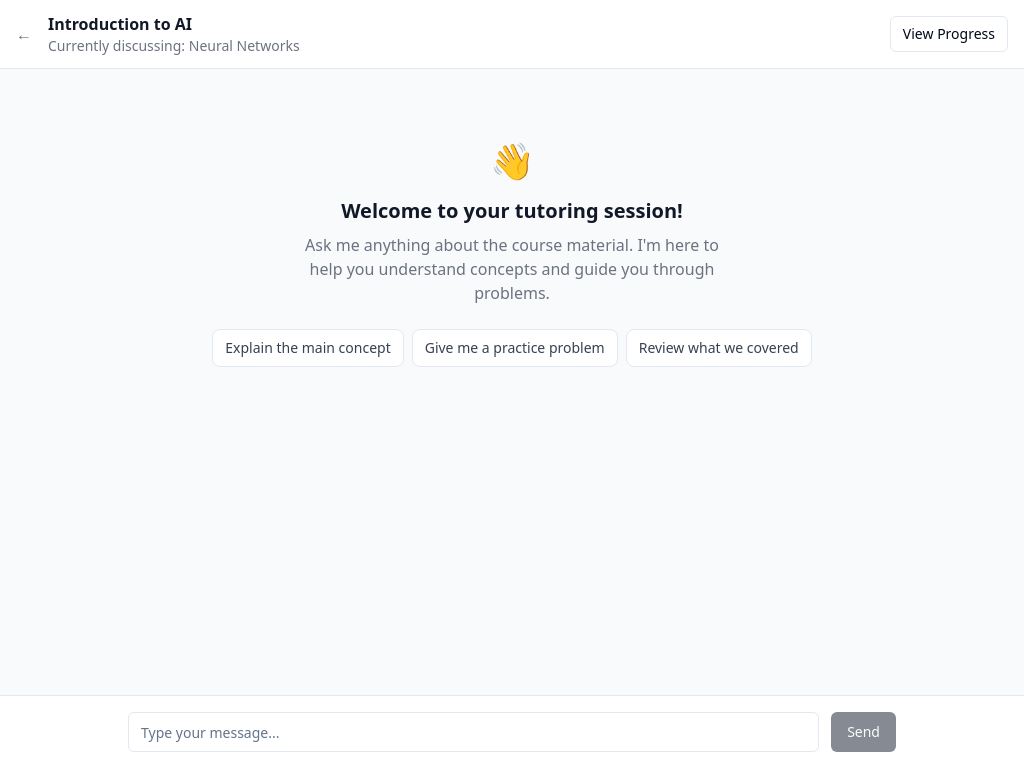
Scenario: TutorSession › message submission › should add user message to chat on submit
Type "Hello AI" into the field with placeholder "Type your message...".
click(474, 732); type("Hello AI")  # box x1=128 y1=712 x2=819 y2=752
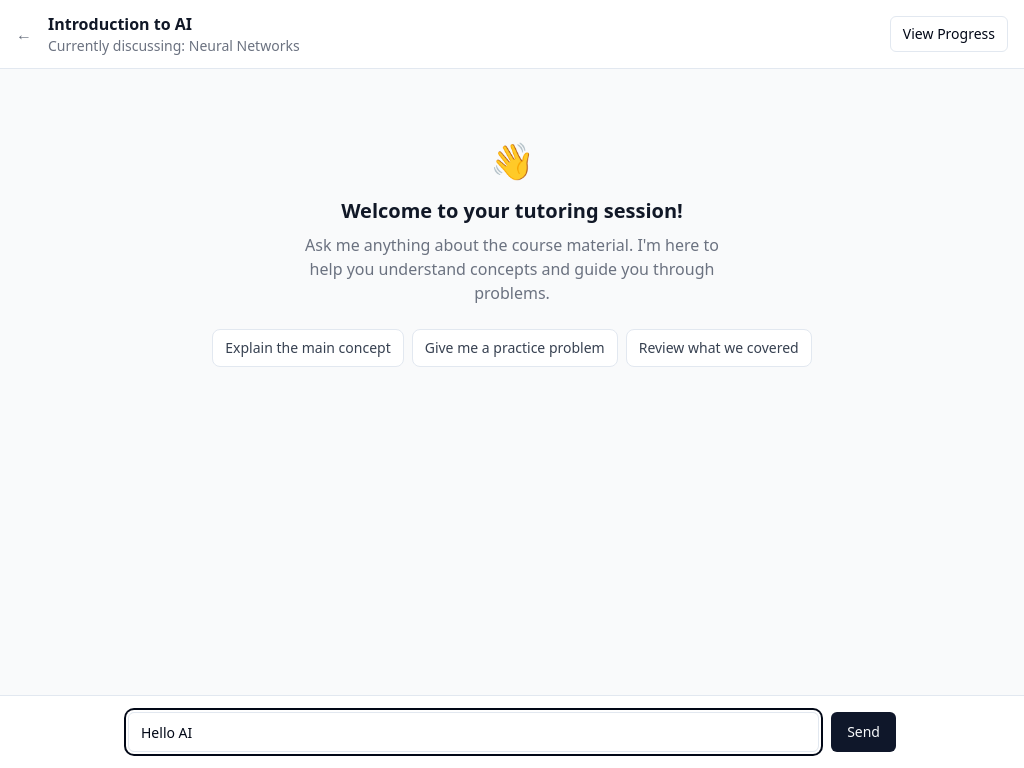
Click the button "Send".
click(864, 732)  # box x1=831 y1=712 x2=896 y2=752
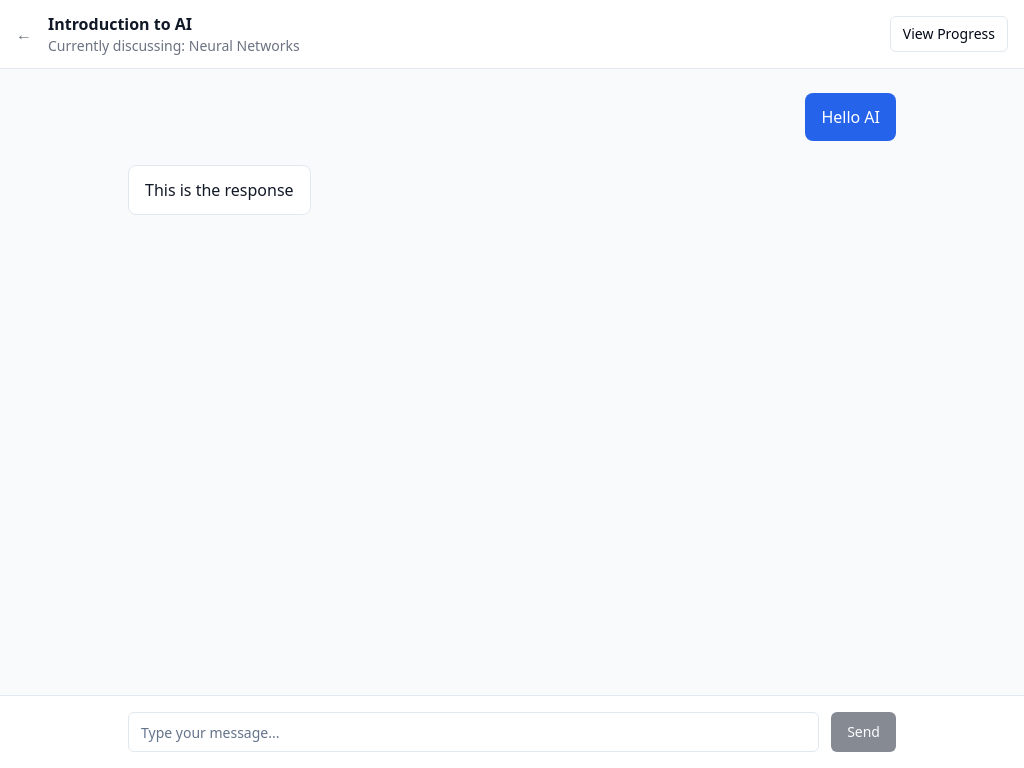
Expected: the text "Hello AI" is shown, x1=821 y1=105 x2=880 y2=129
